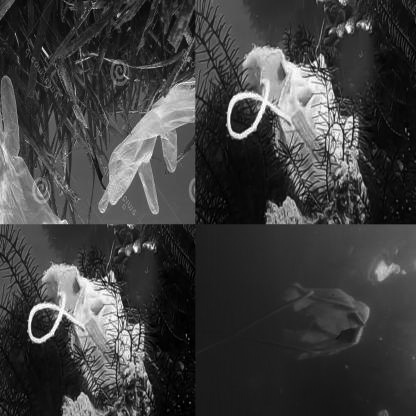Mask: (226, 45, 361, 194), (196, 283, 374, 385), (27, 263, 146, 391)
glove: (94, 72, 195, 224), (0, 69, 75, 224)
